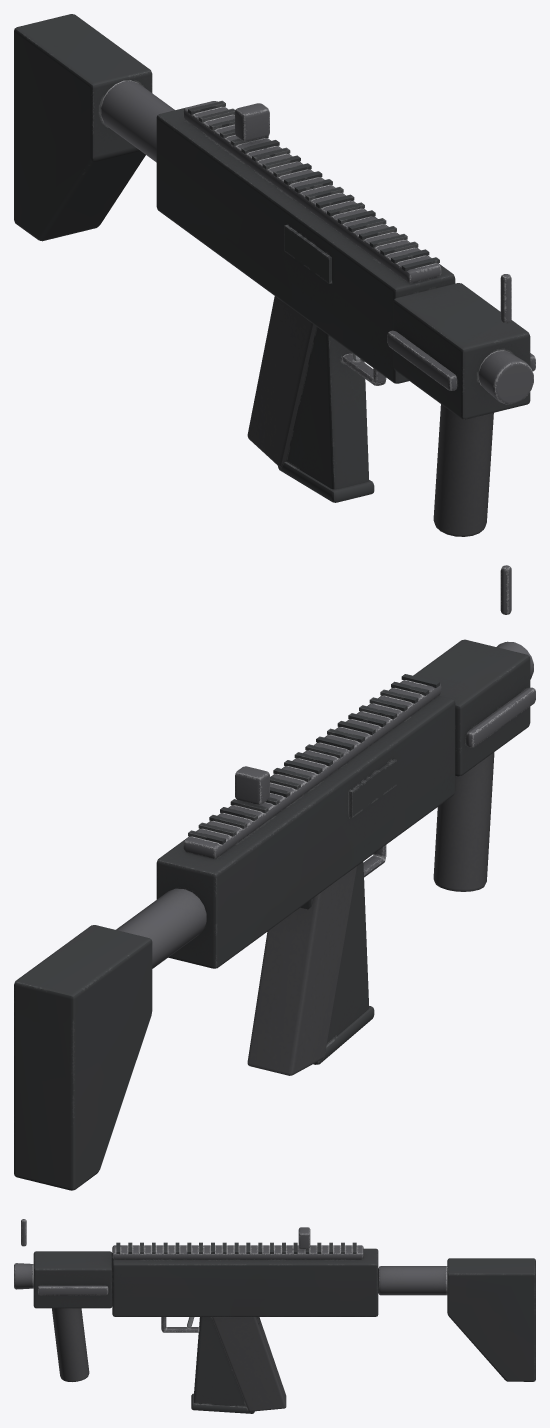
3 views of the same model, one above another, from view 1: azimuth 30°, elevation 25°; view 2: azimuth 150°, elevation 25°; view 3: azimuth 270°, elevation 25° (orthographic). The views are drawn at different scales.
Parts seen in each view (by area): view 1: mp7; view 2: mp7; view 3: mp7.
Part boxes in pixels (box(x1,y1,x2,y2)): mp7: box(14, 14, 535, 536); mp7: box(14, 565, 535, 1190); mp7: box(14, 1219, 535, 1413).
Size of the model in its own units: 0.057 by 0.2126 by 0.53.
